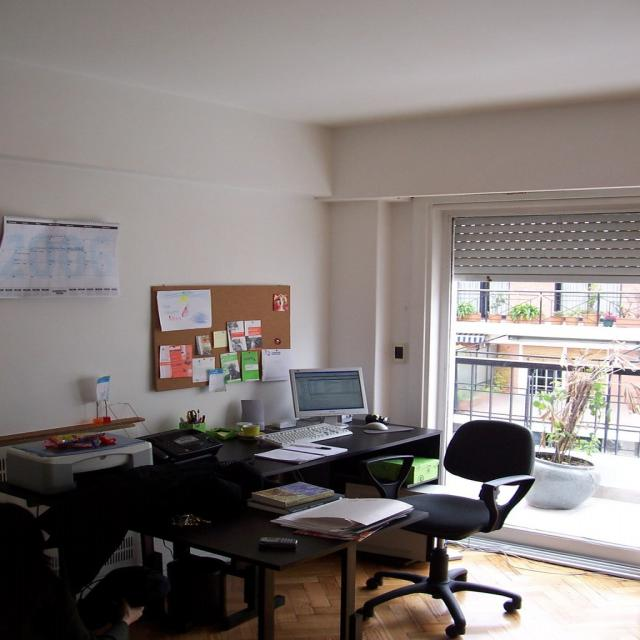chair: (348, 421, 538, 637)
desk: (0, 419, 444, 640)
keyboard: (260, 422, 352, 447)
mouse: (364, 422, 388, 430)
person: (1, 502, 93, 640), (76, 566, 172, 640)
tv: (289, 367, 368, 417)
